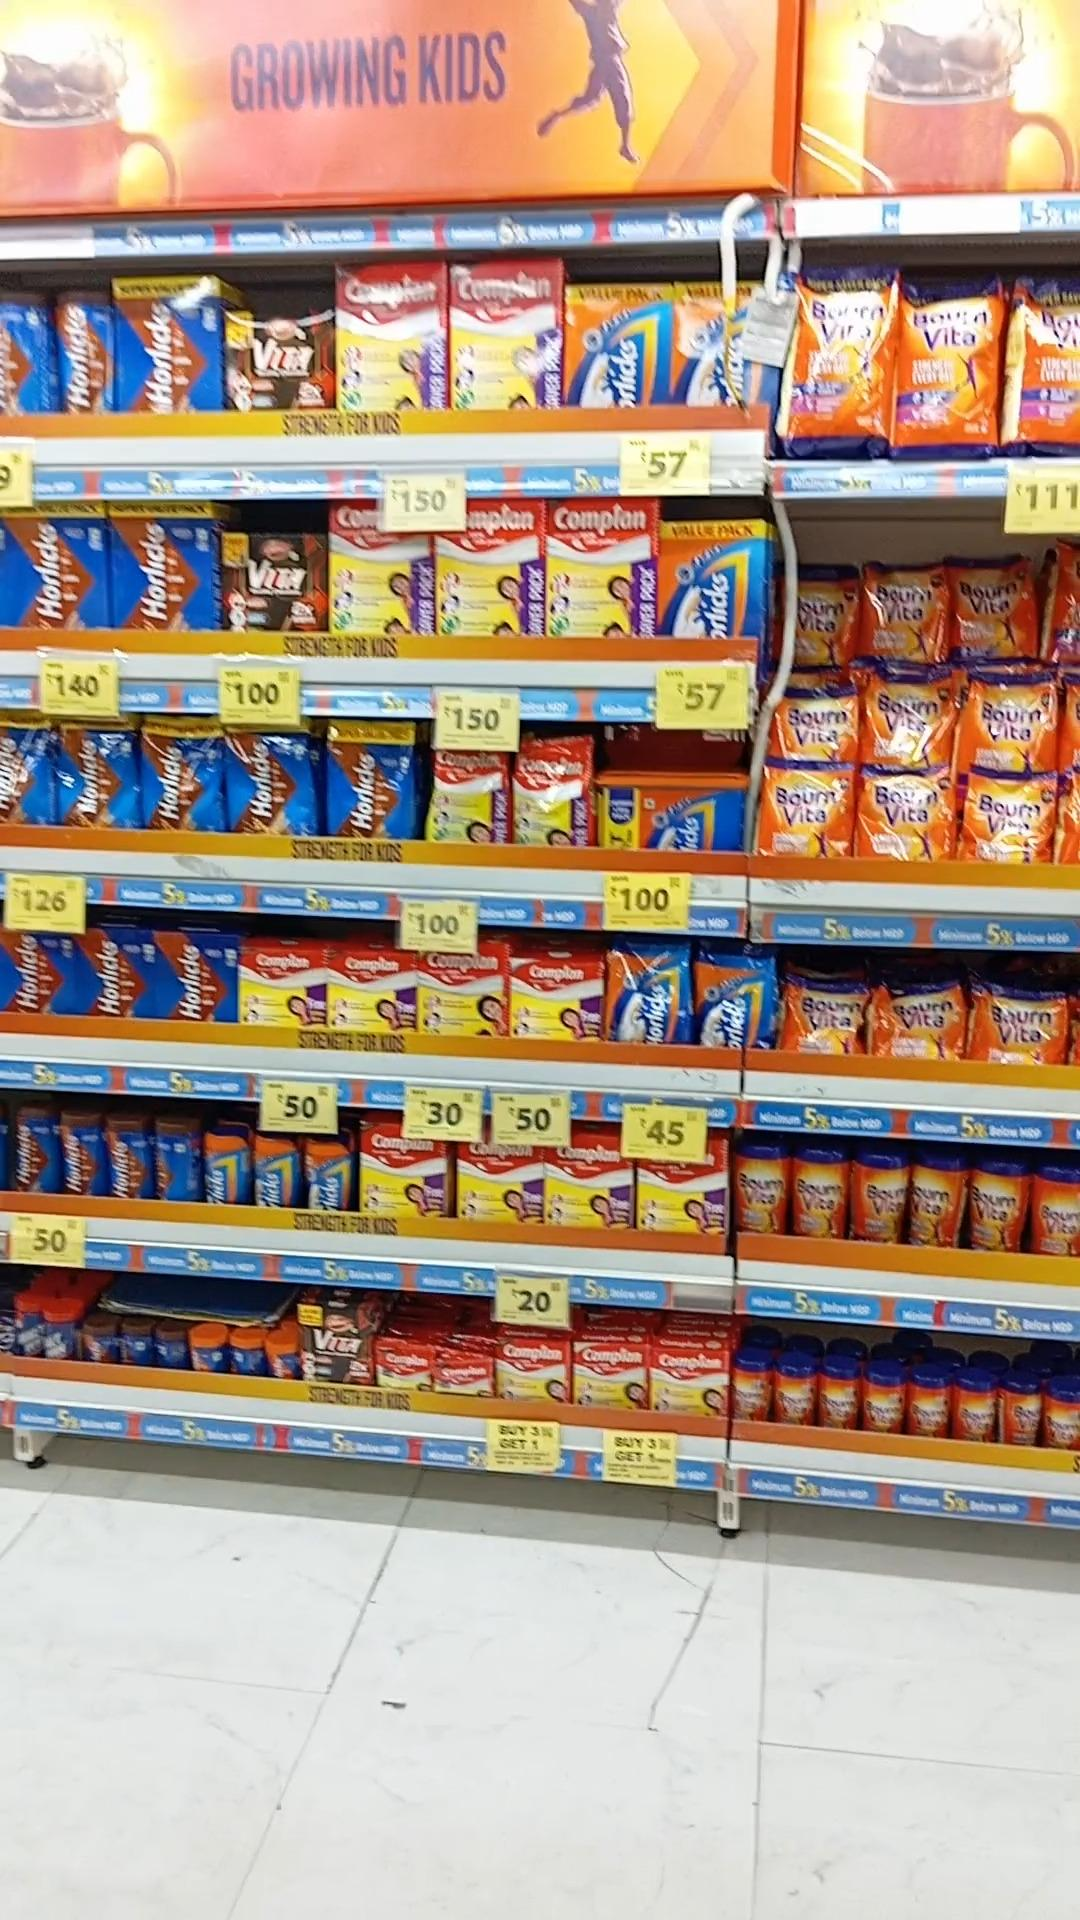BOURN_VITA_1_KG_POUCH: (895, 269, 994, 450), (793, 269, 889, 451), (1011, 272, 1080, 454)
BOURN_VITA_200_G_JAR: (955, 1369, 996, 1443), (773, 1356, 814, 1428), (1001, 1373, 1038, 1452), (910, 1366, 951, 1436), (862, 1366, 903, 1435), (820, 1361, 857, 1429), (731, 1354, 769, 1420), (1046, 1383, 1080, 1449)
BOURN_VITA_500_G_JAR: (968, 1155, 1027, 1251), (910, 1151, 965, 1246), (790, 1145, 845, 1238), (852, 1146, 905, 1244), (737, 1138, 787, 1232), (1033, 1160, 1080, 1255)
BOURN_VITA_500_G_POUCH: (971, 985, 1062, 1063), (870, 984, 960, 1062), (783, 980, 864, 1059)
BOURN_VITA_750_G_POUCH: (953, 559, 1042, 665), (968, 669, 1058, 770), (762, 761, 853, 857), (865, 765, 953, 862), (865, 564, 948, 667), (865, 673, 957, 765), (968, 769, 1058, 862), (782, 574, 856, 673), (778, 686, 860, 760)
COMPLAN_CHOCOLATE_1_KG_PACK: (334, 261, 447, 411), (448, 260, 560, 405), (547, 498, 654, 638), (330, 500, 425, 637)
COMPLAN_CHOCOLATE_200_GMS_PACK: (496, 1337, 567, 1403)
COMPLAN_CHOCOLATE_500_GMS_PACK: (359, 1121, 442, 1216), (328, 951, 415, 1034), (243, 948, 318, 1027)
COMPLAN_KESAR_BADAM_200_GMS_PACK: (572, 1340, 647, 1410)
COMPLAN_KESAR_BADAM_500_GMS_PACK: (508, 957, 601, 1039)
COMPLAN_RC_POUCH_700_GMS_12: (516, 740, 588, 844), (430, 752, 506, 848)
HORLICK_CHOCOLATE_1_KG_JAR: (53, 282, 111, 414)
HORLICK_CHOCOLATE_1_KG_PACK: (113, 280, 219, 411), (109, 498, 214, 632), (0, 497, 104, 626)
HORLICK_CHOCOLATE_500_G_JAR: (7, 1108, 51, 1193), (59, 1109, 100, 1196), (104, 1118, 146, 1201), (152, 1114, 190, 1201)
HORLICK_CHOCOLATE_500_G_PACK: (160, 930, 239, 1025), (0, 928, 76, 1019), (82, 926, 153, 1017)
HORLICK_CHOCOLATE_750_G_POUCH: (324, 717, 414, 840), (227, 719, 307, 840), (144, 709, 222, 832), (62, 717, 138, 825), (0, 711, 57, 825)
HORLICK_CLASSIC_MALT_500_G_JAR: (301, 1130, 352, 1213), (199, 1121, 248, 1205), (253, 1133, 298, 1208)
HORLICK_CLASSIC_MALT_500_G_PACK: (657, 520, 761, 642), (674, 278, 770, 407), (562, 285, 665, 405)
HORLICK_CLASSIC_MALT_750_G_POUCH: (611, 936, 687, 1042), (694, 951, 771, 1051)
